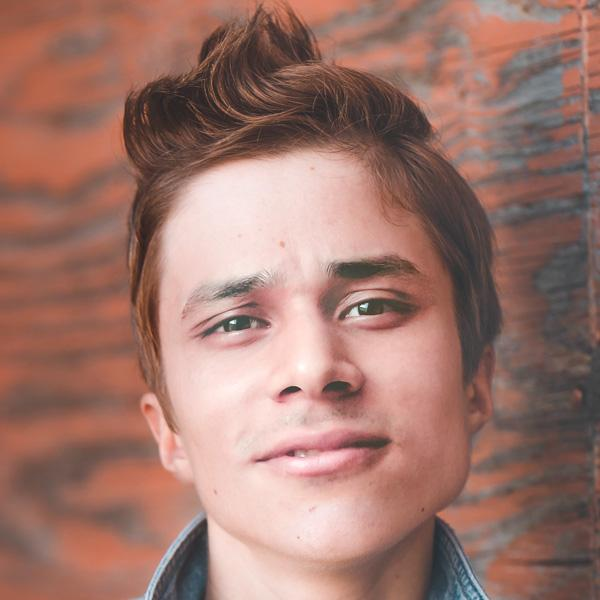Eyes: (329, 279, 428, 334), (189, 296, 281, 351)
